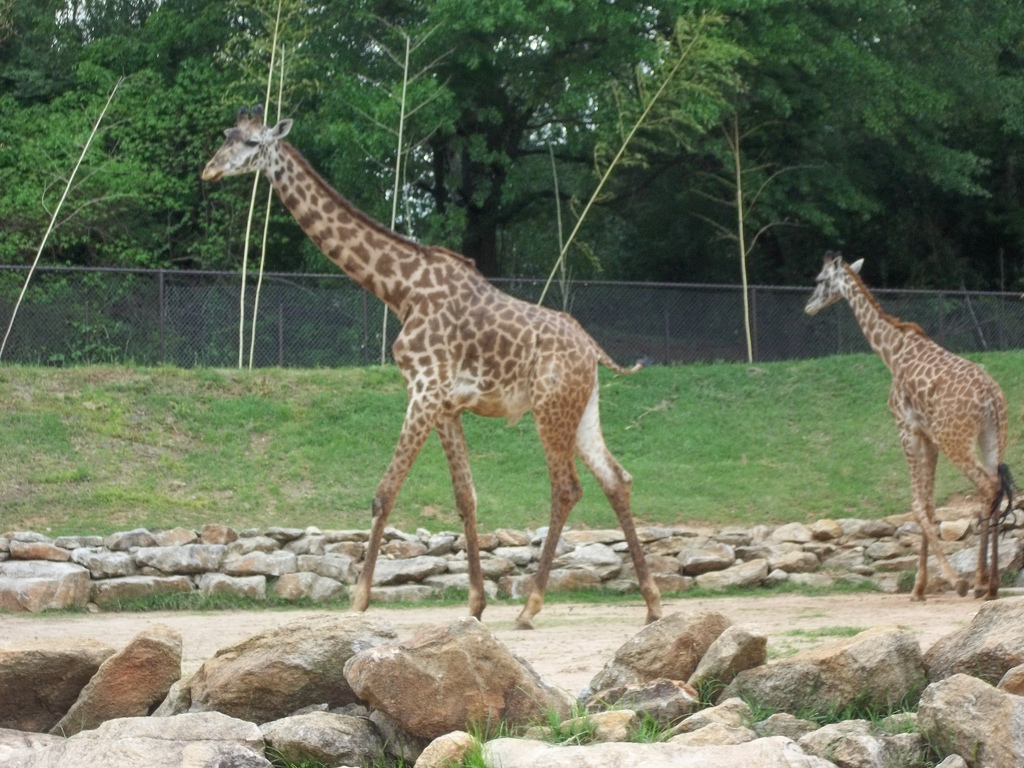giraffe: (176, 102, 684, 621), (788, 250, 1014, 646)
